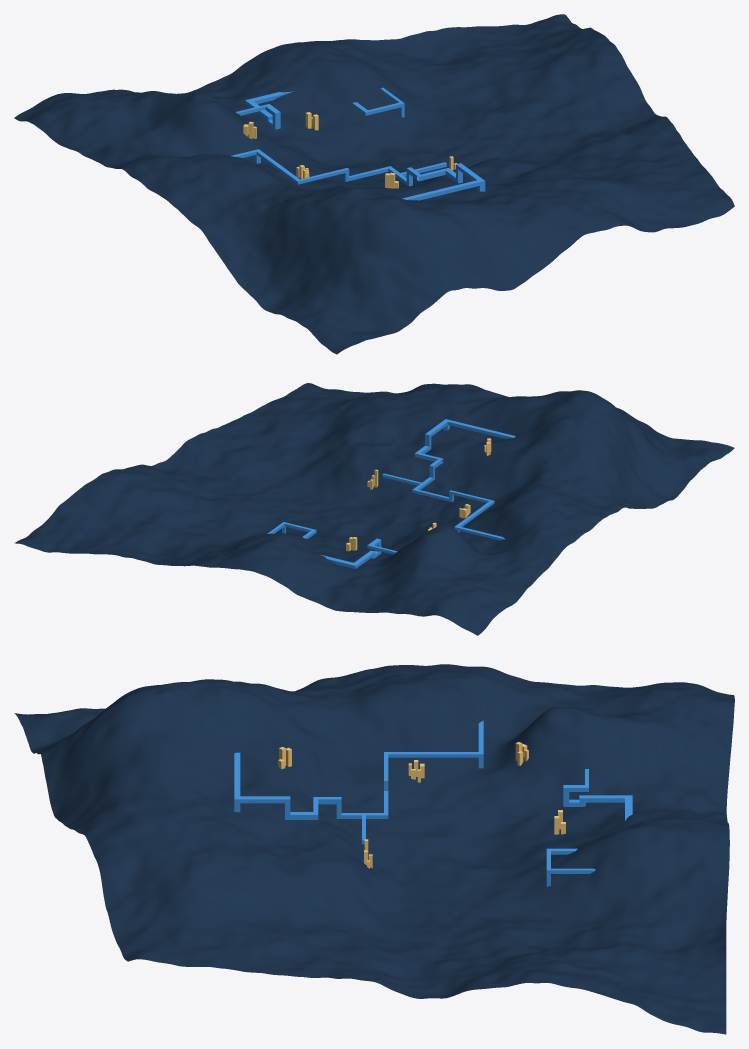
Rendered from landscape-2-road-test-2.glb.
3 renders of one model, top to bottom at view 1: azimuth 30°, elevation 25°; view 2: azimuth 150°, elevation 25°; view 3: azimuth 270°, elevation 25°, orthographic. The views are drawn at different scales.
Visible parts, largest first — view 1: Plane, Cube.019, Cube.021; view 2: Plane, Cube.019, Cube.021; view 3: Plane, Cube.019, Cube.021, Cube.020.
Part boxes in pixels (box(x1,y1,x2,y2)): Plane: box(14, 14, 734, 354); Cube.019: box(231, 149, 485, 200); Cube.021: box(235, 91, 293, 129); Plane: box(14, 383, 734, 635); Cube.019: box(382, 419, 515, 540); Cube.021: box(320, 538, 397, 568); Plane: box(14, 664, 734, 1034); Cube.019: box(234, 720, 483, 844); Cube.021: box(563, 769, 632, 820); Cube.020: box(546, 848, 595, 886).
Size of the model in its own units: 356 by 59.24 by 351.
